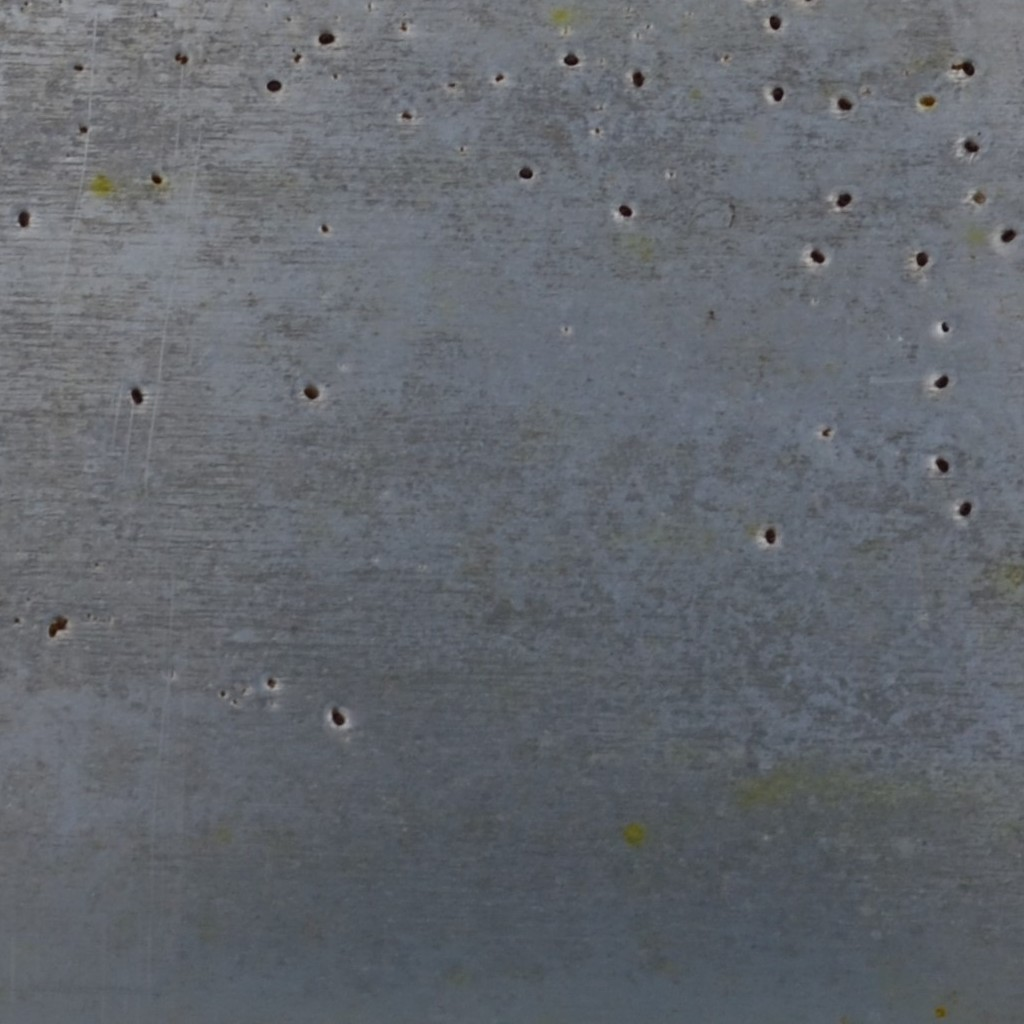varroa: (957, 132, 985, 156), (951, 494, 976, 520), (805, 245, 833, 268), (299, 379, 323, 404), (834, 87, 854, 116), (765, 79, 786, 106), (996, 221, 1018, 246), (931, 366, 953, 391), (558, 46, 583, 68), (329, 700, 348, 728), (916, 86, 939, 109), (833, 188, 857, 208), (14, 204, 32, 230), (629, 67, 650, 89), (931, 454, 951, 477), (914, 247, 931, 274), (130, 383, 148, 408), (265, 75, 283, 99), (767, 9, 784, 34), (969, 183, 987, 206), (317, 25, 337, 45), (516, 161, 535, 182), (763, 525, 780, 548), (615, 202, 637, 218)
